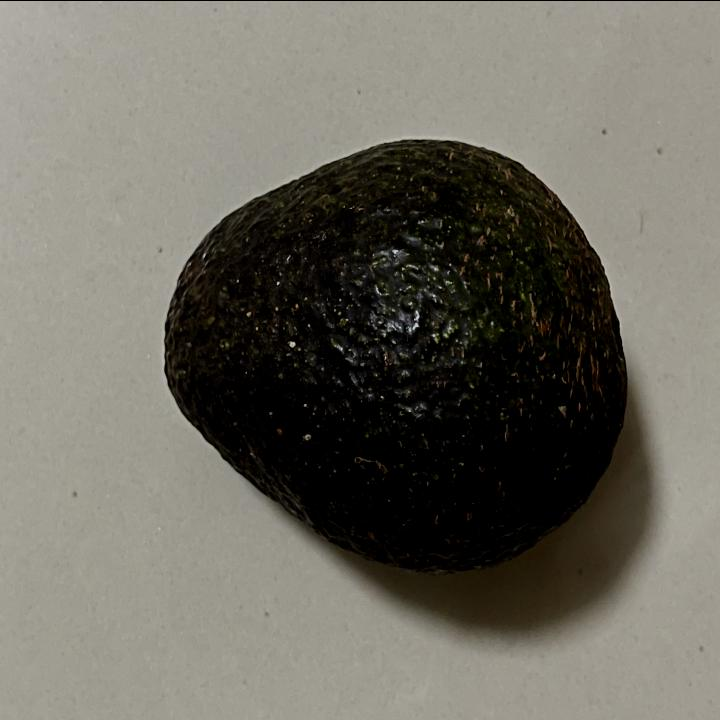Level1: (155, 129, 635, 586)
